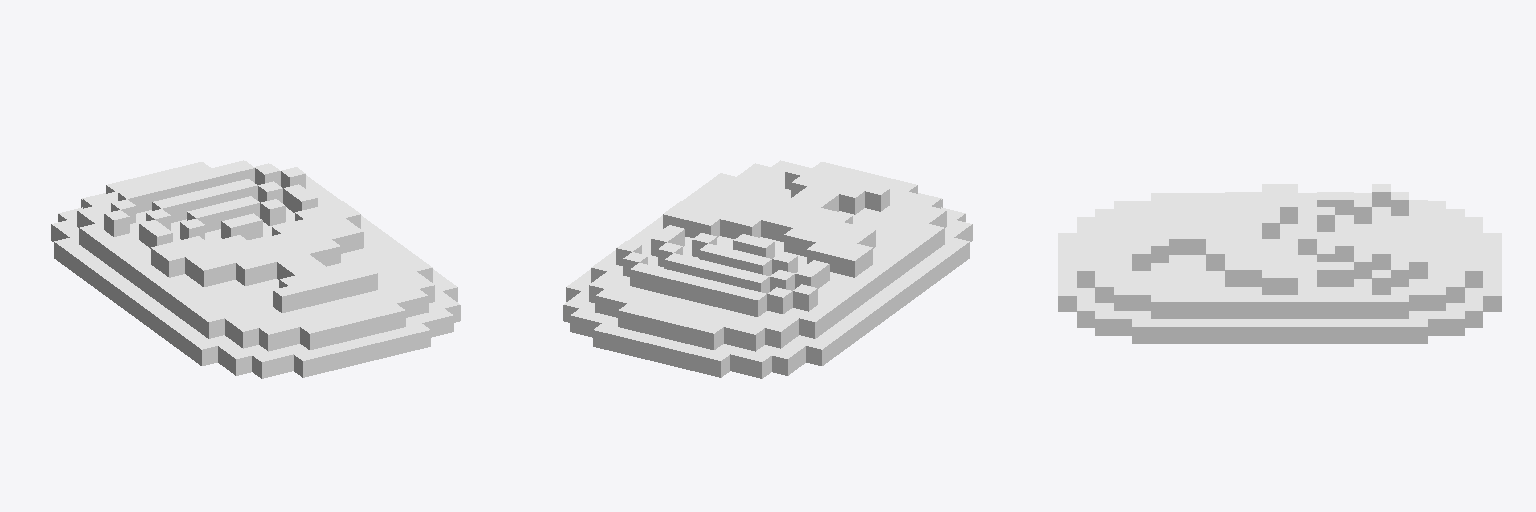
The model's file is teleportField.obj.
3 views of the same model, side by side, from view 1: azimuth 30°, elevation 25°; view 2: azimuth 150°, elevation 25°; view 3: azimuth 270°, elevation 25° (orthographic).
Visible parts, largest first — view 1: ObjObject.013; view 2: ObjObject.013; view 3: ObjObject.013.
Part boxes in pixels (x1,y1,x2,y2): ObjObject.013: (51,160,460,378); ObjObject.013: (563,160,972,378); ObjObject.013: (1058,184,1501,343).
Bounding box in the file's own units: 1.6 × 0.3 × 2.4.